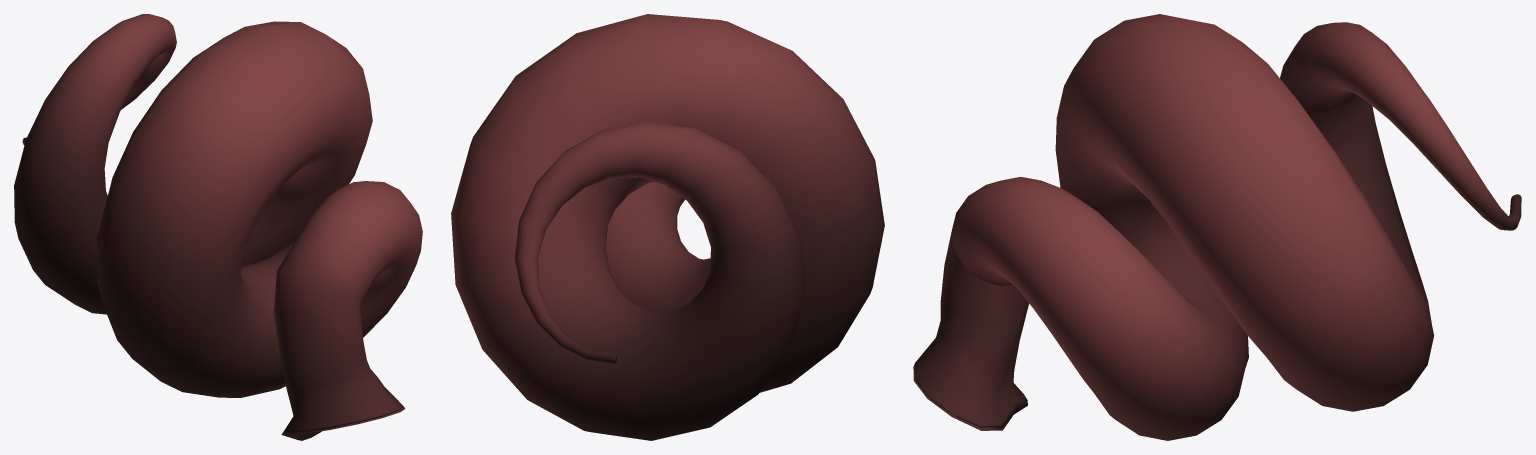
The model's file is spiral.glb.
3 views of the same model, side by side, from view 1: azimuth 30°, elevation 25°; view 2: azimuth 150°, elevation 25°; view 3: azimuth 270°, elevation 25° (orthographic). The views are drawn at different scales.
Parts seen in each view (by area): view 1: t_spiral7; view 2: t_spiral7; view 3: t_spiral7.
Boxes of the visible parts, box(x1,y1,x2,y2) form: t_spiral7: box(14, 14, 422, 440); t_spiral7: box(451, 14, 884, 440); t_spiral7: box(913, 14, 1521, 440).
Size of the model in its own units: 0.0829 by 0.0843 by 0.1175.
1 material, 1 textured.
